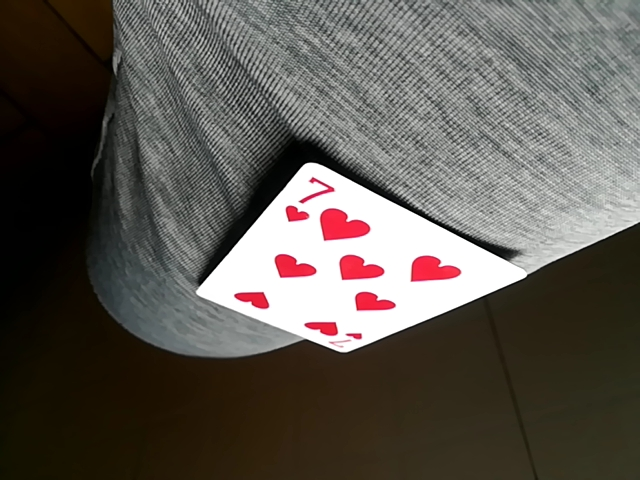hx 7: (194, 163, 523, 355)
